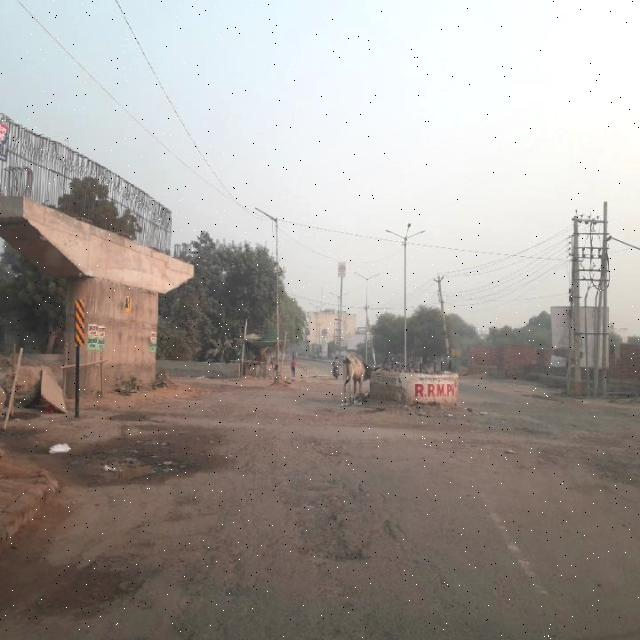D40: (268, 465, 396, 573)
